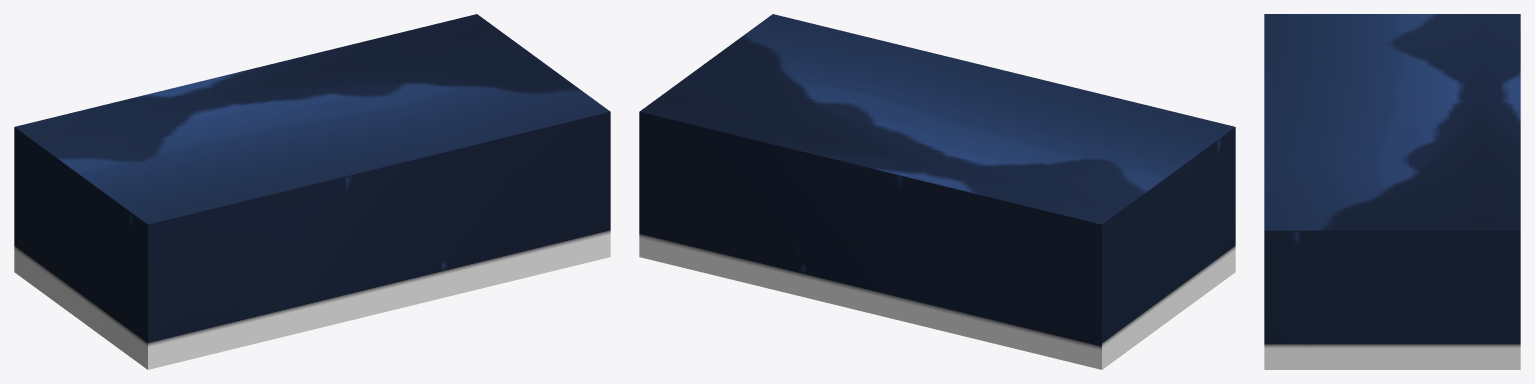
File: ss_tile_s_boundary_edge.obj
The picture shows the model from 3 angles, left to right: view 1: azimuth 30°, elevation 25°; view 2: azimuth 150°, elevation 25°; view 3: azimuth 270°, elevation 25°; orthographic projection. The views are drawn at different scales.
Parts seen in each view (by area): view 1: tile_boundary_edged_corner01; view 2: tile_boundary_edged_corner01; view 3: tile_boundary_edged_corner01.
Boxes of the visible parts, box(x1,y1,x2,y2) form: tile_boundary_edged_corner01: box(14, 14, 610, 369); tile_boundary_edged_corner01: box(639, 14, 1235, 369); tile_boundary_edged_corner01: box(1264, 14, 1520, 369).
Size of the model in its own units: 1 by 0.3 by 0.5.
